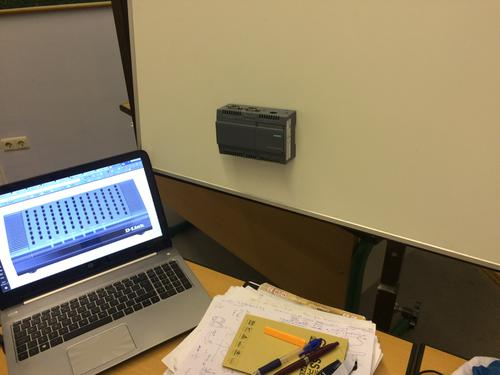iot2000: (215, 103, 298, 166)
